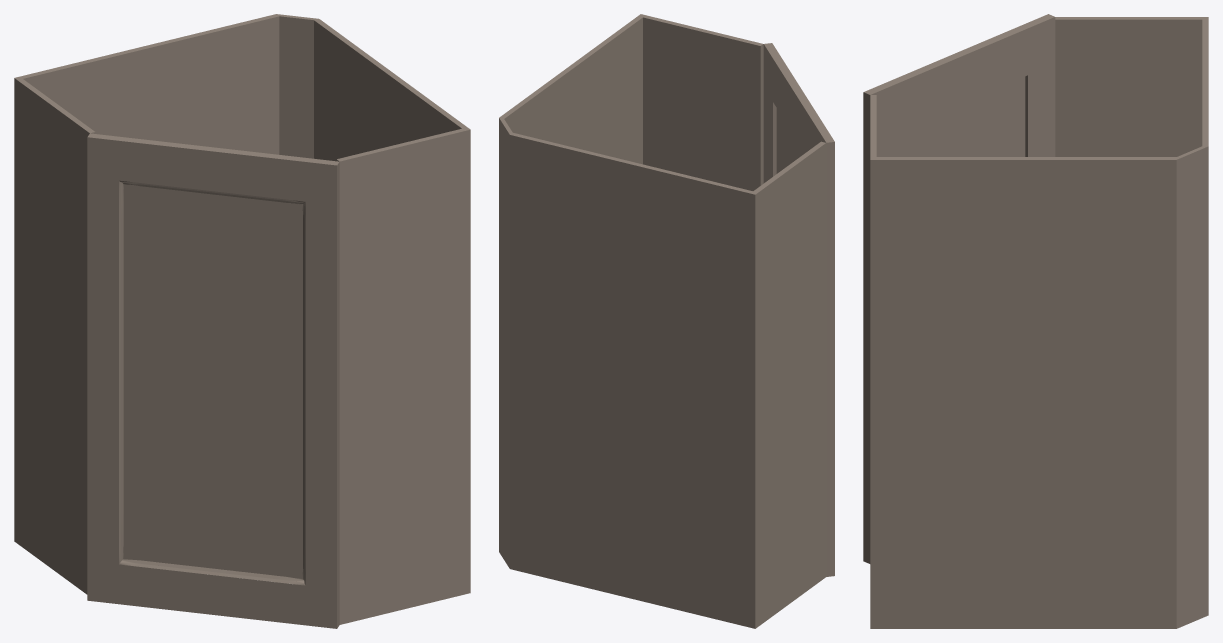
File: WHP-Wall-Diagonal-Corner-Door-Prepped-Glass.std.glb
3 views of the same model, side by side, from view 1: azimuth 30°, elevation 25°; view 2: azimuth 150°, elevation 25°; view 3: azimuth 270°, elevation 25° (orthographic). The views are drawn at different scales.
Parts seen in each view (by area): view 1: WHP-Wall-Diagonal-Corner-Door-Prepped-Glass.std.001; view 2: WHP-Wall-Diagonal-Corner-Door-Prepped-Glass.std.001; view 3: WHP-Wall-Diagonal-Corner-Door-Prepped-Glass.std.001.
Boxes of the visible parts, x1,y1,x2,y2 form: WHP-Wall-Diagonal-Corner-Door-Prepped-Glass.std.001: [14, 14, 470, 628]; WHP-Wall-Diagonal-Corner-Door-Prepped-Glass.std.001: [499, 14, 834, 628]; WHP-Wall-Diagonal-Corner-Door-Prepped-Glass.std.001: [863, 14, 1208, 628].
Bounding box in the file's own units: 0.6096 × 0.9144 × 0.6096.
